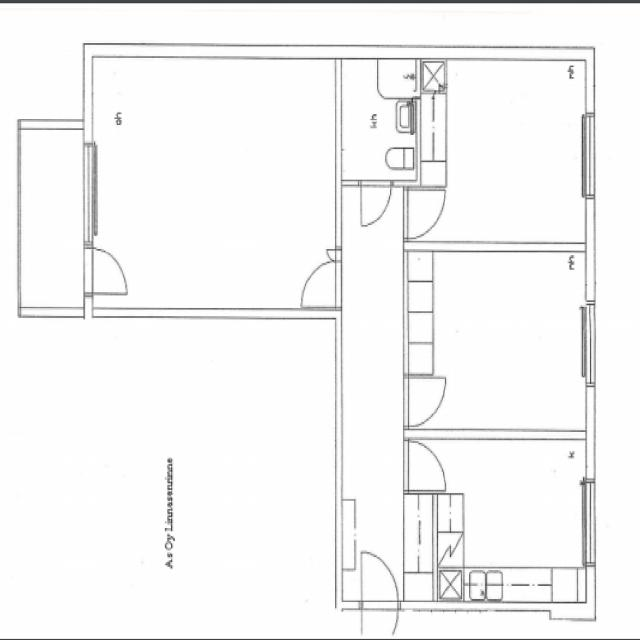door: (362, 554, 398, 612), (84, 247, 127, 294), (405, 377, 445, 426), (405, 442, 445, 490), (404, 190, 444, 238), (304, 262, 342, 306), (361, 180, 391, 227), (328, 249, 342, 262)
